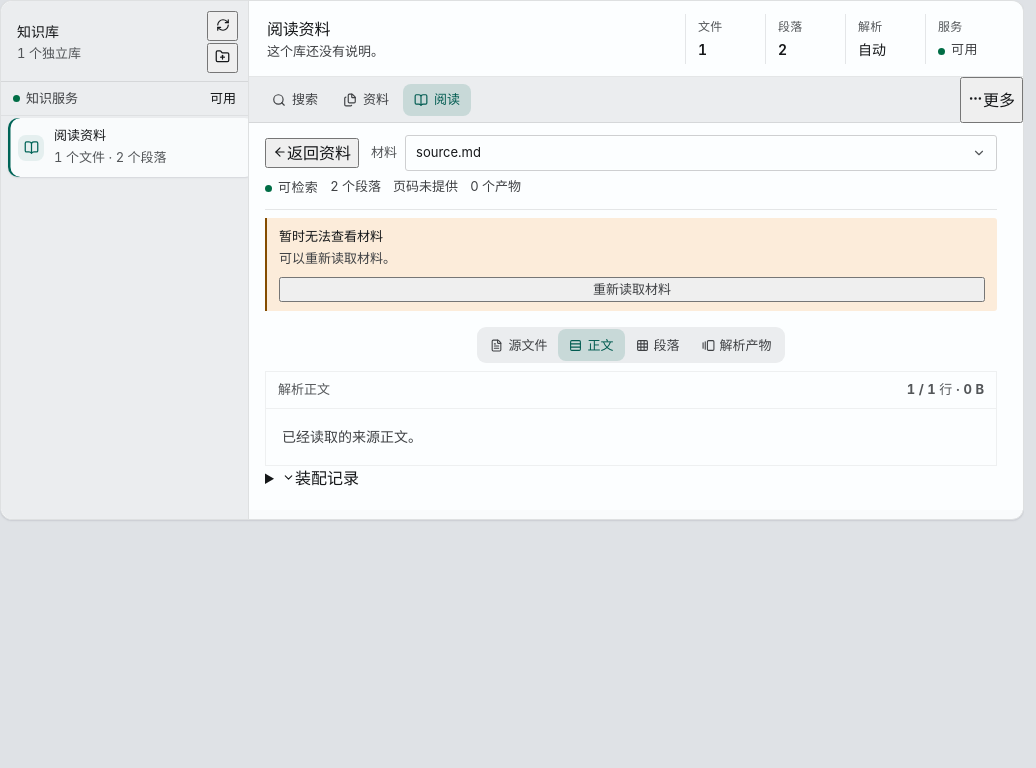
Test: Knowledge reading recovery › retries both the source paragraphs and正文 after a partial detail failure
This screenshot has width=1036, height=768.
Click the button "重新读取材料" at point(632, 289), box [279,276,985,302]
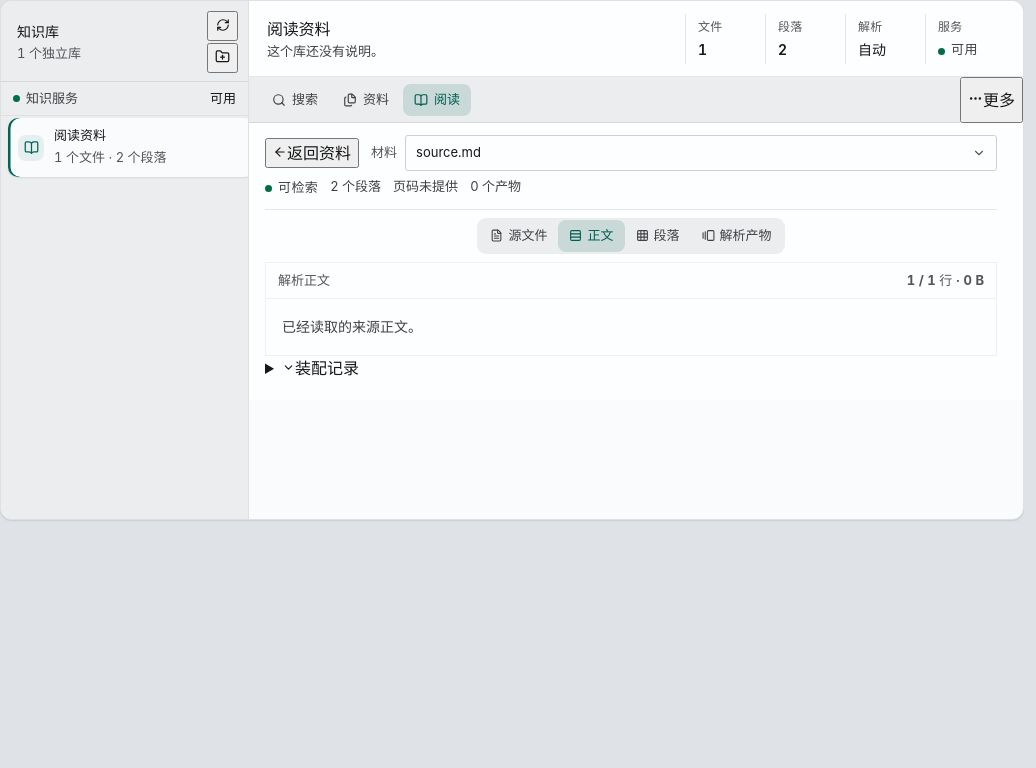
Expected: the text "已经读取的来源正文。" is shown, [282,318,422,335]
Expected: the text "暂时无法查看材料" is gone
